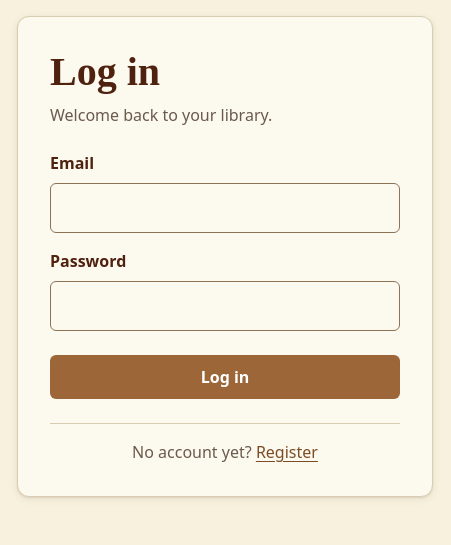
Test: US-01: logging in › CT-11 shows the server error on wrong credentials
Type "reader@example.com" into the field labelled "Email" at {"x": 225, "y": 208}, box [50,183,400,233]
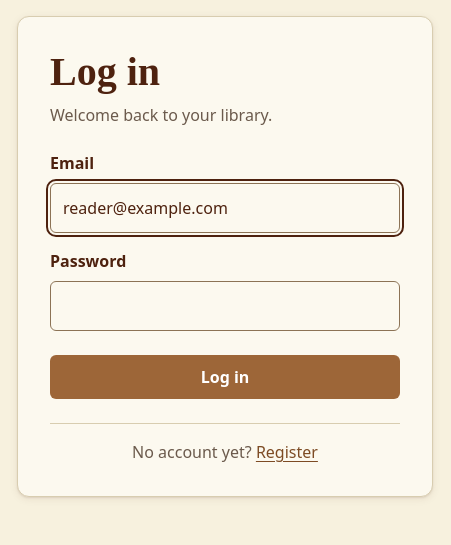
Type "wrong-password" into the password field labelled "Password" at {"x": 225, "y": 306}, box [50,281,400,331]
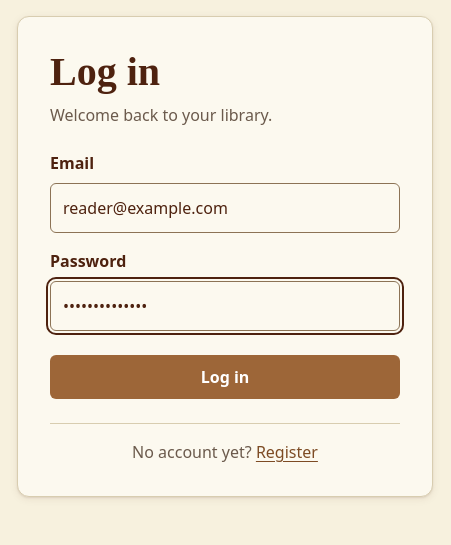
Click the button "Log in" at {"x": 225, "y": 377}, box [50,355,400,399]
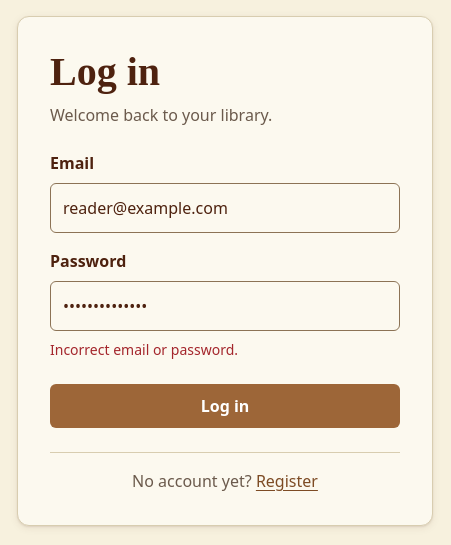
Check: the button "Log in" is enabled, box [50,384,400,428]
Check: the message reads "Incorrect email or password.", box [50,340,238,359]
